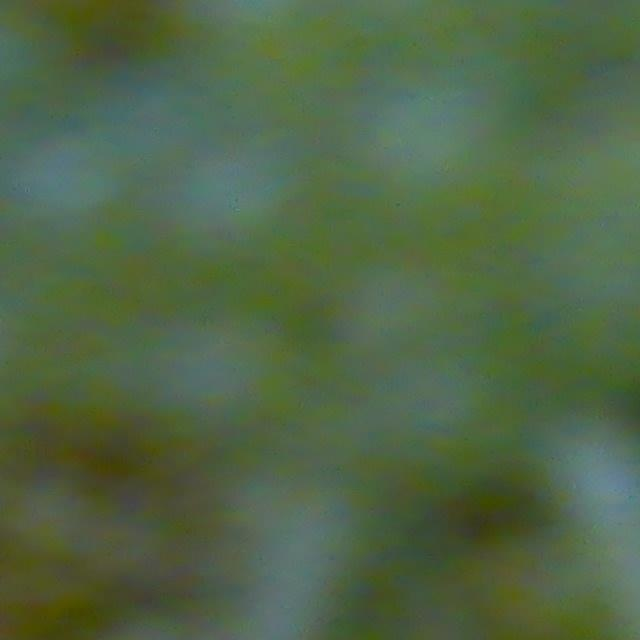SeaGrape: (0, 123, 163, 269), (372, 85, 531, 231), (162, 146, 318, 288)
